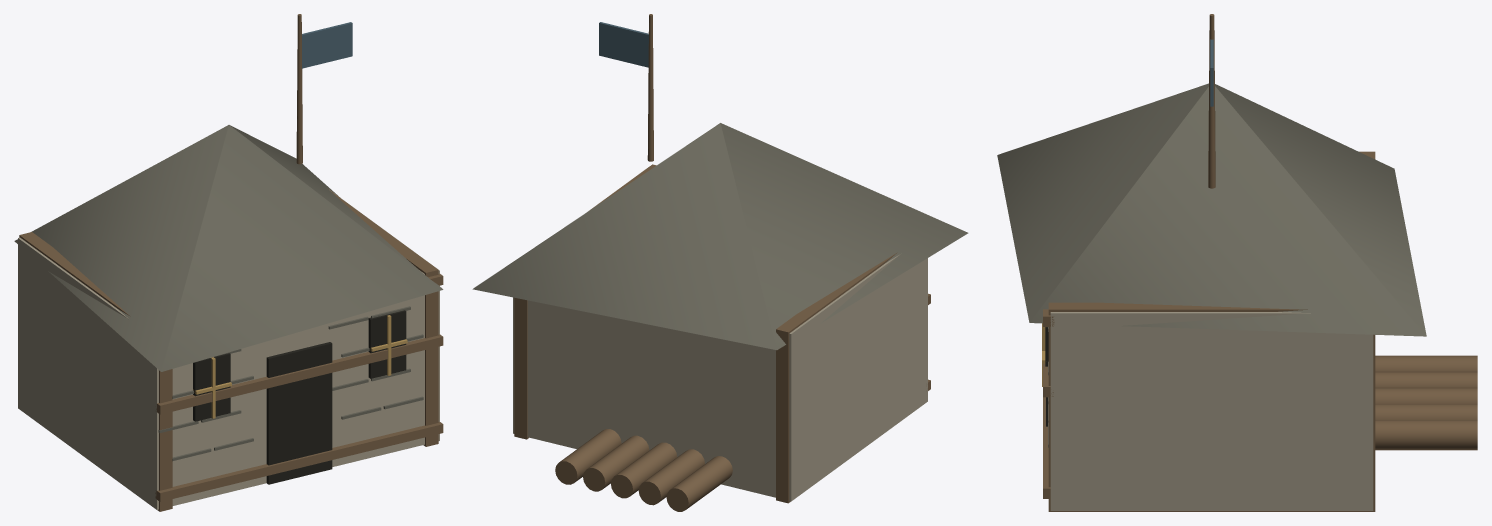
File: b-lumber-english.glb
3 views of the same model, side by side, from view 1: azimuth 30°, elevation 25°; view 2: azimuth 150°, elevation 25°; view 3: azimuth 270°, elevation 25° (orthographic). The views are drawn at different scales.
Parts seen in each view (by area): view 1: Structure; view 2: Structure; view 3: Structure.
Part boxes in pixels (box(x1,y1,x2,y2)): Structure: box(14, 14, 443, 511); Structure: box(472, 14, 968, 511); Structure: box(997, 14, 1477, 511).
Size of the model in its own units: 4.53 by 5.33 by 5.06.
